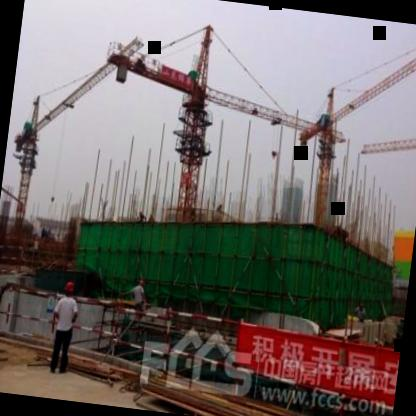helmet: (61, 278, 75, 298)
